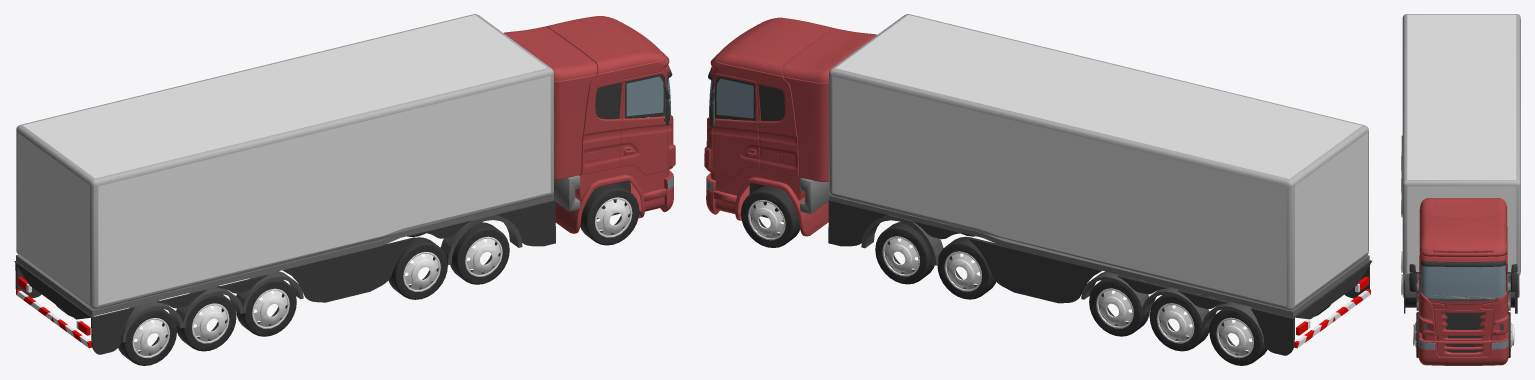
Rendered from LARGETRUCK.glb.
3 views of the same model, side by side, from view 1: azimuth 30°, elevation 25°; view 2: azimuth 150°, elevation 25°; view 3: azimuth 270°, elevation 25° (orthographic). The views are drawn at different scales.
Visible parts, largest first — view 1: cheshen, body; view 2: cheshen, body; view 3: cheshen, body.
Boxes of the visible parts, x1,y1,x2,y2 form: cheshen: [14, 14, 673, 365]; body: [504, 16, 675, 233]; cheshen: [706, 14, 1372, 365]; body: [704, 17, 876, 236]; cheshen: [1401, 14, 1520, 357]; body: [1418, 198, 1508, 365].
Size of the model in its own units: 11.71 by 3.71 by 2.7.
